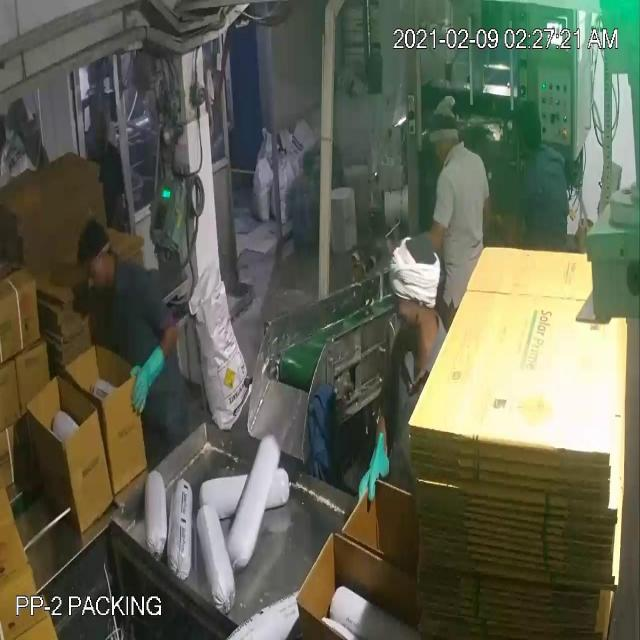Gloves: (44, 98, 371, 468)
